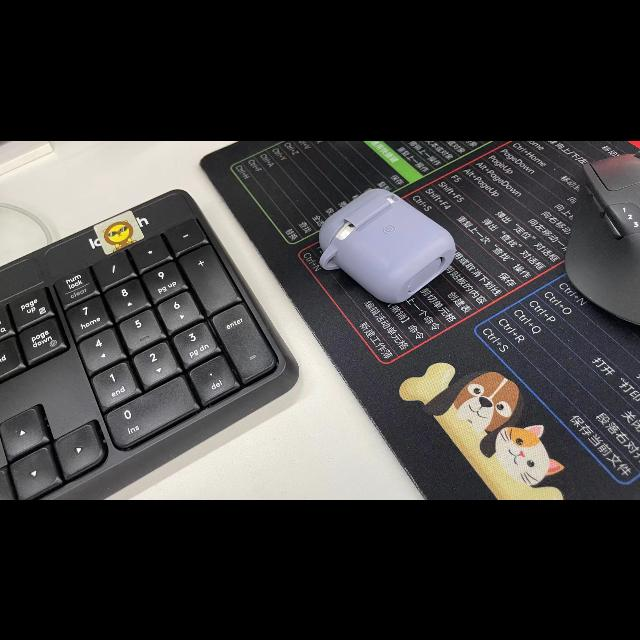airpods: (319, 187, 454, 301)
